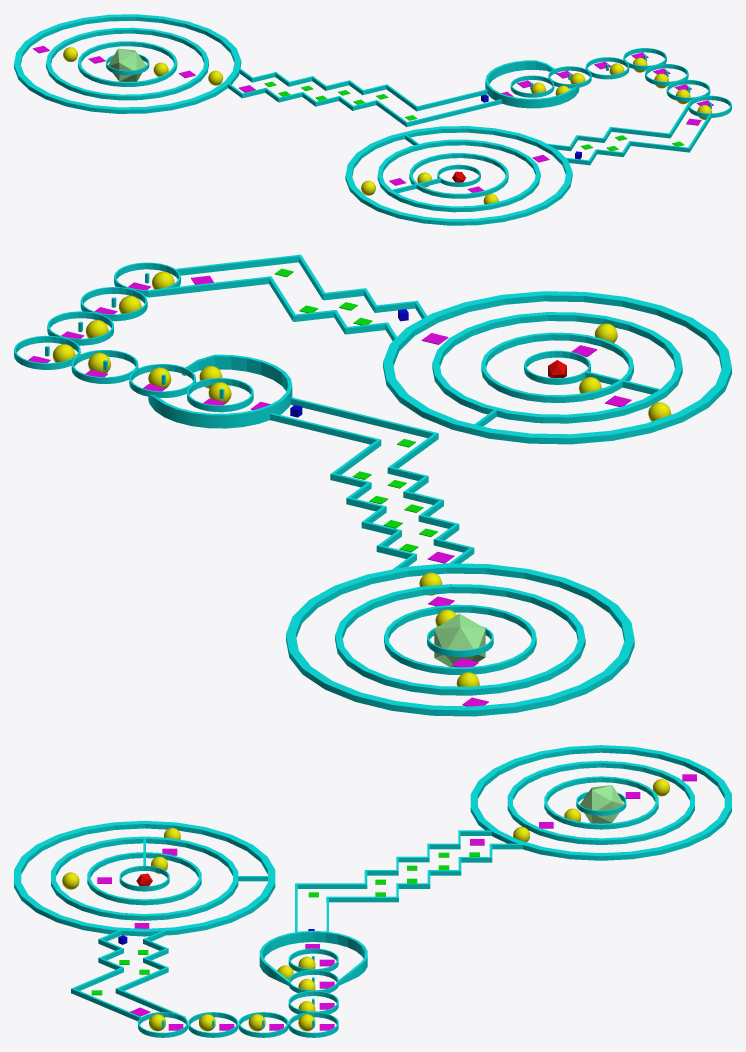
File: GGJ_Level.fbx
3 views of the same model, one above another, from view 1: azimuth 30°, elevation 25°; view 2: azimuth 150°, elevation 25°; view 3: azimuth 270°, elevation 25° (orthographic). The views are drawn at different scales.
Parts seen in each view (by area): view 1: SM_Wall_Cylinder16, SM_Wall_Cylinder12, SM_Wall_Cylinder3, SM_Wall_Cylinder15, SM_Wall_Cylinder11, SM_Wall_Cylinder14, SM_Wall_Cylinder1, SM_Final, SM_Wall6, SM_Wall_Cylinder10, SM_Wall_Cylinder, SM_Wall_Cylinder4 (+6 smaller); view 2: SM_Wall_Cylinder12, SM_Wall_Cylinder16, SM_Wall_Cylinder15, SM_Wall_Cylinder3, SM_Wall_Cylinder11, SM_Wall_Cylinder1, SM_Wall_Cylinder14, SM_Wall6 (×2), SM_Wall5 (×2), SM_Final, SM_Wall_Cylinder, SM_Wall_Cylinder10 (+6 smaller); view 3: SM_Wall_Cylinder16, SM_Wall_Cylinder12, SM_Wall_Cylinder15, SM_Wall_Cylinder3, SM_Wall_Cylinder11, SM_Wall_Cylinder14, SM_Wall_Cylinder1, SM_Final, SM_Wall_Cylinder, SM_Wall_Cylinder7, SM_Wall_Cylinder5, SM_Wall_Cylinder6 (+5 smaller).
Part boxes in pixels (left/top/right/bottom): SM_Wall_Cylinder16: left=14, top=14, right=241, bottom=113; SM_Wall_Cylinder12: left=345, top=126, right=572, bottom=225; SM_Wall_Cylinder3: left=377, top=139, right=540, bottom=212; SM_Wall_Cylinder15: left=46, top=27, right=208, bottom=100; SM_Wall_Cylinder11: left=485, top=60, right=579, bottom=108; SM_Wall_Cylinder14: left=78, top=41, right=177, bottom=86; SM_Wall_Cylinder1: left=409, top=153, right=508, bottom=198; SM_Final: left=108, top=48, right=146, bottom=81; SM_Wall6: left=406, top=99, right=501, bottom=126; SM_Wall_Cylinder10: left=510, top=75, right=554, bottom=97; SM_Wall_Cylinder: left=437, top=164, right=480, bottom=186; SM_Wall_Cylinder4: left=688, top=95, right=731, bottom=117; SM_Wall_Cylinder12: left=383, top=291, right=731, bottom=444; SM_Wall_Cylinder16: left=286, top=563, right=634, bottom=716; SM_Wall_Cylinder15: left=335, top=584, right=585, bottom=695; SM_Wall_Cylinder3: left=432, top=312, right=682, bottom=423; SM_Wall_Cylinder11: left=148, top=354, right=292, bottom=428; SM_Wall_Cylinder1: left=481, top=332, right=633, bottom=402; SM_Wall_Cylinder14: left=384, top=604, right=536, bottom=674; SM_Wall6 (×2): left=176, top=255, right=435, bottom=438; SM_Wall5 (×2): left=147, top=276, right=379, bottom=444; SM_Final: left=434, top=613, right=485, bottom=666; SM_Wall_Cylinder: left=524, top=350, right=590, bottom=384; SM_Wall_Cylinder10: left=187, top=378, right=253, bottom=412; SM_Wall_Cylinder16: left=470, top=745, right=731, bottom=860; SM_Wall_Cylinder12: left=14, top=820, right=275, bottom=936; SM_Wall_Cylinder15: left=507, top=760, right=694, bottom=844; SM_Wall_Cylinder3: left=51, top=836, right=238, bottom=920; SM_Wall_Cylinder11: left=259, top=931, right=367, bottom=985; SM_Wall_Cylinder14: left=544, top=776, right=658, bottom=829; SM_Wall_Cylinder1: left=87, top=852, right=201, bottom=905; SM_Final: left=580, top=785, right=623, bottom=823; SM_Wall_Cylinder: left=119, top=866, right=169, bottom=891; SM_Wall_Cylinder7: left=288, top=1012, right=338, bottom=1037; SM_Wall_Cylinder5: left=188, top=1012, right=238, bottom=1037; SM_Wall_Cylinder6: left=238, top=1012, right=288, bottom=1037.
Bounding box in the file's own units: 271 × 15.36 × 285.
